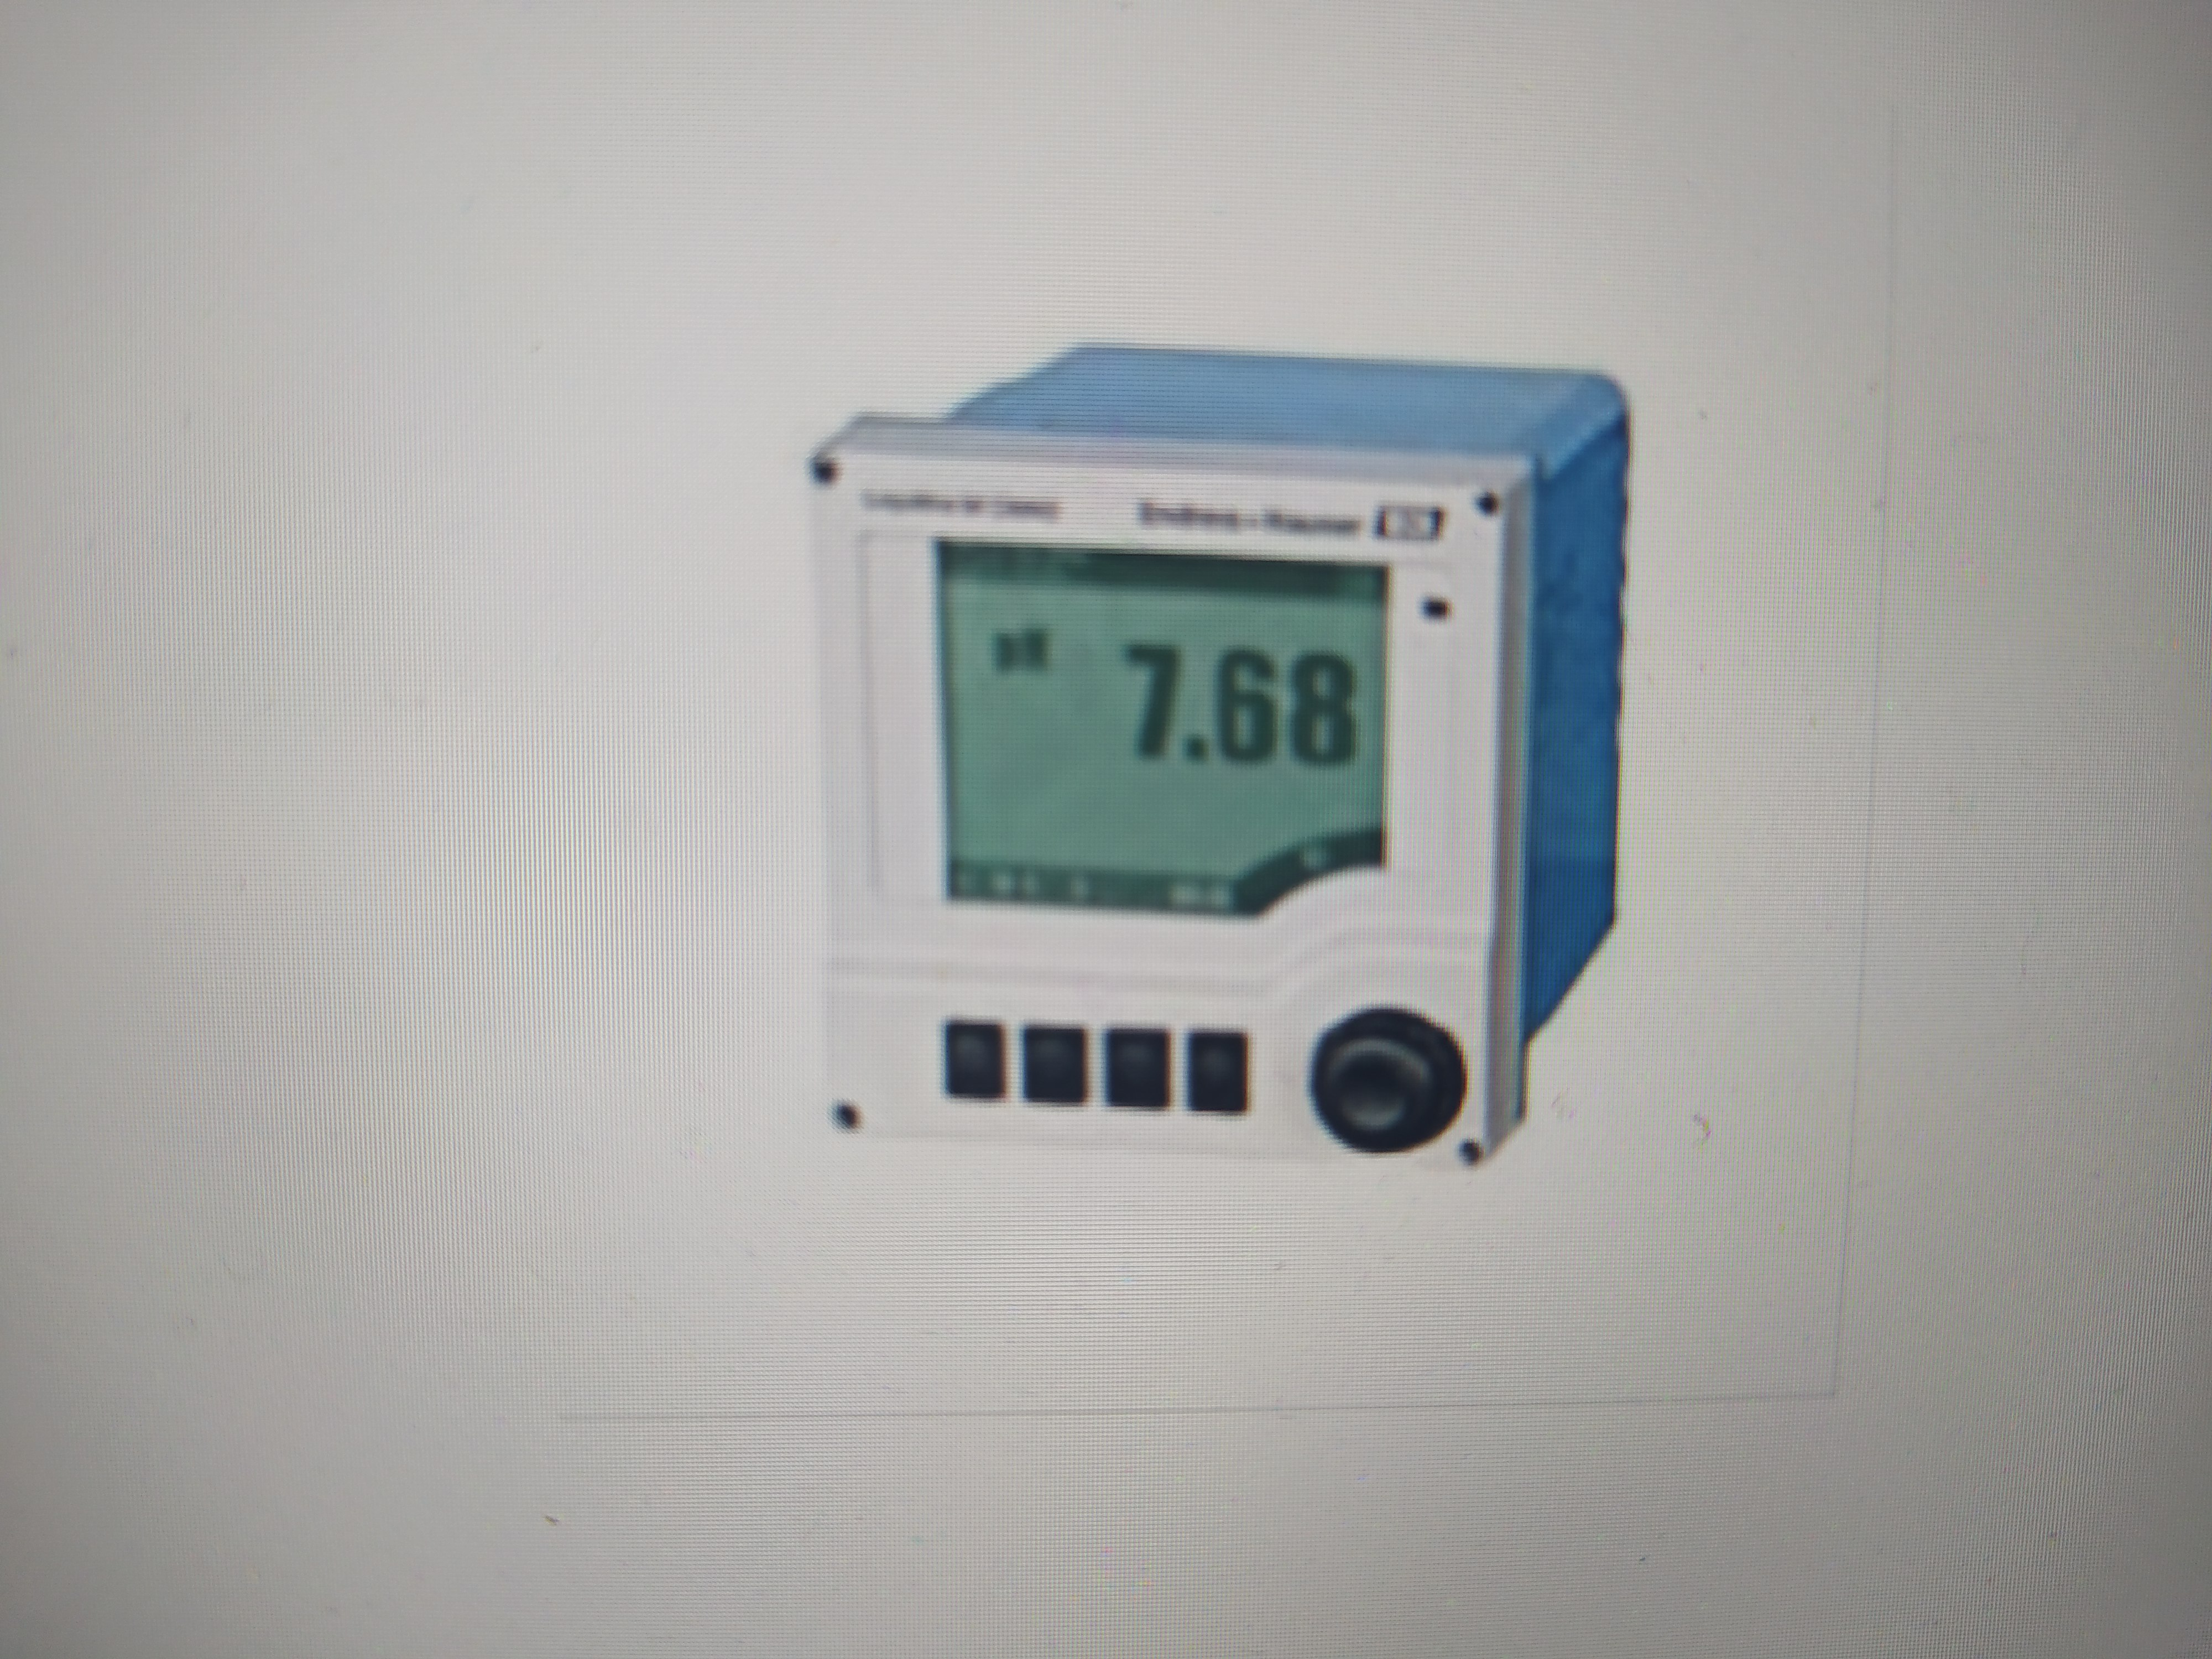.: (1176, 638, 1216, 770)
6: (1214, 645, 1284, 769)
7: (1111, 636, 1184, 767)
8: (1285, 650, 1362, 770)
